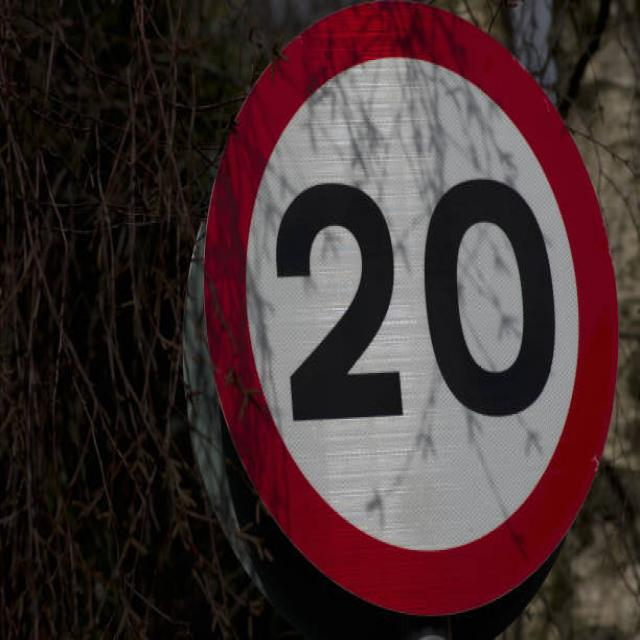speed_limit_20: (192, 2, 623, 630)
